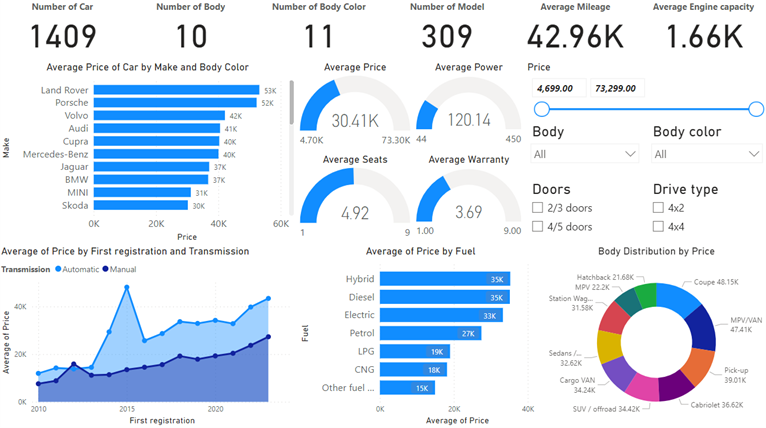

What the dashboard file says about the page in this screenshot:
{"tool":"powerbi","page":{"name":"Page 1","canvas":[1280,720],"ordinal":0},"visuals":[{"type":"barChart","title":"Average Price of Car by Make and Body Color","fields":{"Category":["final_data.Make","final_data.Body color"],"Y":["Avg(final_data.Price)"]},"box":[0,108.8,496.3,306.8],"z":0},{"type":"areaChart","fields":{"Category":["final_data.First registration"],"Y":["Avg(final_data.Price)"],"Series":["final_data.Transmission"]},"box":[0,415.6,496.3,304.4],"z":2000},{"type":"clusteredBarChart","fields":{"Y":["Avg(final_data.Price)"],"Category":["final_data.Fuel"]},"box":[496.3,415.6,410.7,304.4],"z":3000},{"type":"gauge","title":"Average Price","fields":{"Y":["Avg(final_data.Price)"],"MinValue":["Min(final_data.Price)"],"MaxValue":["Max(final_data.Price)"]},"box":[496.3,108.8,193.1,154],"z":6000},{"type":"gauge","title":"Average Seats","fields":{"Y":["Avg(final_data.Seats)"],"MinValue":["Min(final_data.Seats)"],"MaxValue":["Max(final_data.Seats)1"]},"box":[496.3,262.8,193.1,152.8],"z":7000},{"type":"gauge","title":"Average Warranty","fields":{"Y":["Avg(final_data.Warranty until)"],"MinValue":["Min(final_data.Warranty until)"],"MaxValue":["Max(final_data.Warranty until)"]},"box":[689.4,262.8,184.6,152.8],"z":8000},{"type":"gauge","title":"Average Power","fields":{"Y":["Avg(final_data.Power)"],"MinValue":["Min(final_data.Power)"],"MaxValue":["Max(final_data.Power)"]},"box":[689.4,108.8,184.6,154],"z":9000},{"type":"slicer","title":"Price","fields":{"Values":["final_data.Price"]},"box":[874,108.8,405.8,99],"z":10000},{"type":"slicer","fields":{"Values":["final_data.Body color"]},"box":[1074.5,207.8,205.4,95.3],"z":11000},{"type":"slicer","fields":{"Values":["final_data.Body"]},"box":[874,207.8,200.5,95.3],"z":12000},{"type":"slicer","fields":{"Values":["final_data.Doors"]},"box":[874,303.2,200.5,112.5],"z":13000},{"type":"slicer","fields":{"Values":["final_data.Drive type"]},"box":[1074.5,303.2,205.4,112.5],"z":14000},{"type":"donutChart","title":"Body Distribution by Price","fields":{"Category":["final_data.Body"],"Y":["Avg(final_data.Price)"]},"box":[907,415.6,372.8,304.4],"z":15000},{"type":"cardVisual","fields":{"Data":["CountNonNull(final_data.Make)","Count(final_data.Body)","Count(final_data.Body color)","Count(final_data.Model)","Avg(final_data.Mileage)","Avg(final_data.Engine capacity)"]},"box":[0,0,1279.9,107.6],"z":18001}]}

Visuals, with their boxes in screenshot pixels (x1, y1, x2, y2), scaled from the page's 1280x720 canvas onto the 766x428 screenshot:
"Average Price of Car by Make and Body Color" barChart: (left=0, top=65, right=297, bottom=247)
areaChart - final_data.First registration x Avg(final_data.Price): (left=0, top=247, right=297, bottom=427)
clusteredBarChart - Avg(final_data.Price) x final_data.Fuel: (left=297, top=247, right=543, bottom=427)
"Average Price" gauge: (left=297, top=65, right=413, bottom=156)
"Average Seats" gauge: (left=297, top=156, right=413, bottom=247)
"Average Warranty" gauge: (left=413, top=156, right=523, bottom=247)
"Average Power" gauge: (left=413, top=65, right=523, bottom=156)
"Price" slicer: (left=523, top=65, right=765, bottom=124)
slicer - final_data.Body color: (left=643, top=124, right=765, bottom=180)
slicer - final_data.Body: (left=523, top=124, right=643, bottom=180)
slicer - final_data.Doors: (left=523, top=180, right=643, bottom=247)
slicer - final_data.Drive type: (left=643, top=180, right=765, bottom=247)
"Body Distribution by Price" donutChart: (left=543, top=247, right=765, bottom=427)
cardVisual - CountNonNull(final_data.Make) x Count(final_data.Body): (left=0, top=0, right=765, bottom=64)
